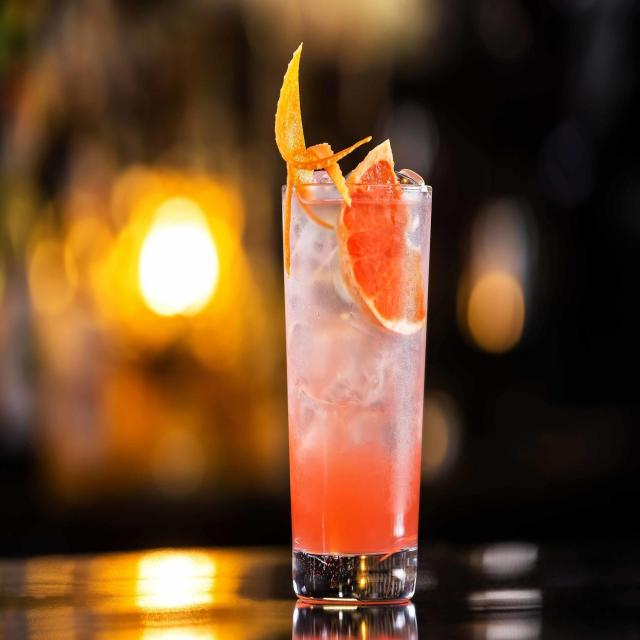glass-normal: (279, 171, 434, 608)
